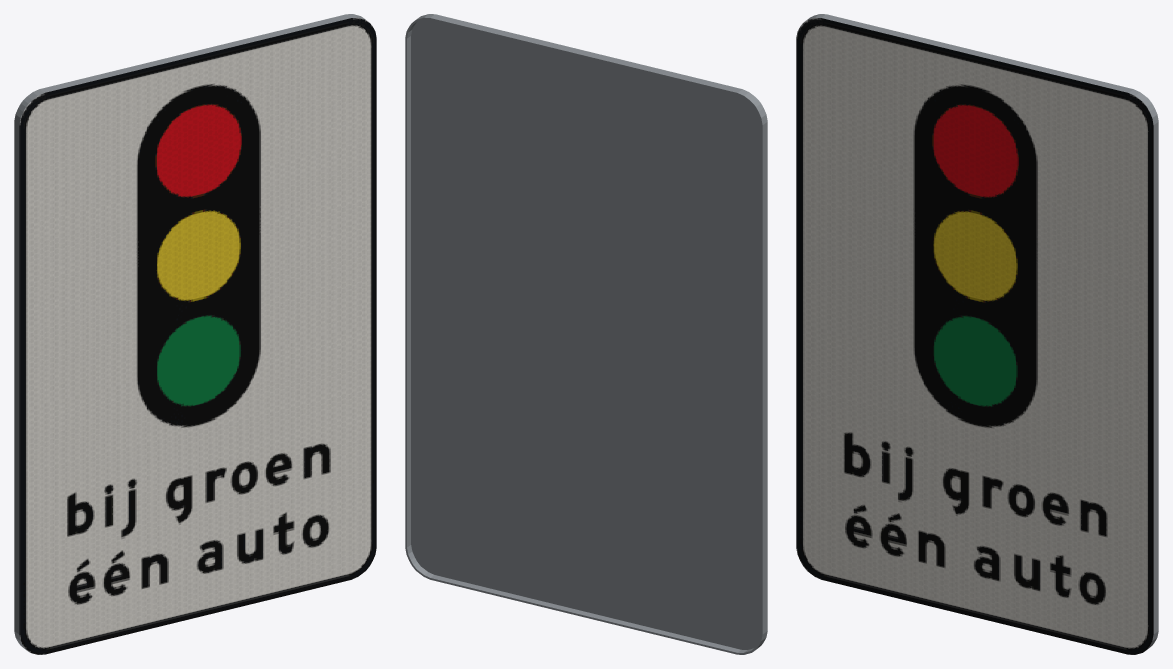
The picture shows the model from 3 angles, left to right: view 1: azimuth 30°, elevation 25°; view 2: azimuth 150°, elevation 25°; view 3: azimuth 330°, elevation 25°; orthographic projection.
Parts seen in each view (by area): view 1: cat_adf92b2b84e16bca; view 2: cat_adf92b2b84e16bca; view 3: cat_adf92b2b84e16bca.
Part boxes in pixels (x1,y1,x2,y2): cat_adf92b2b84e16bca: (14,14,376,654); cat_adf92b2b84e16bca: (405,14,767,654); cat_adf92b2b84e16bca: (796,14,1158,654).
Bounding box in the file's own units: 0.6 × 0.015 × 0.9011.
2 materials, 1 textured.
